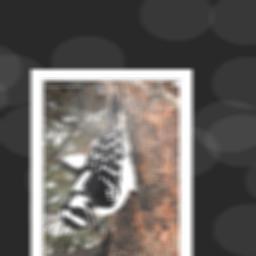Woodpecker: (58, 89, 152, 230)
